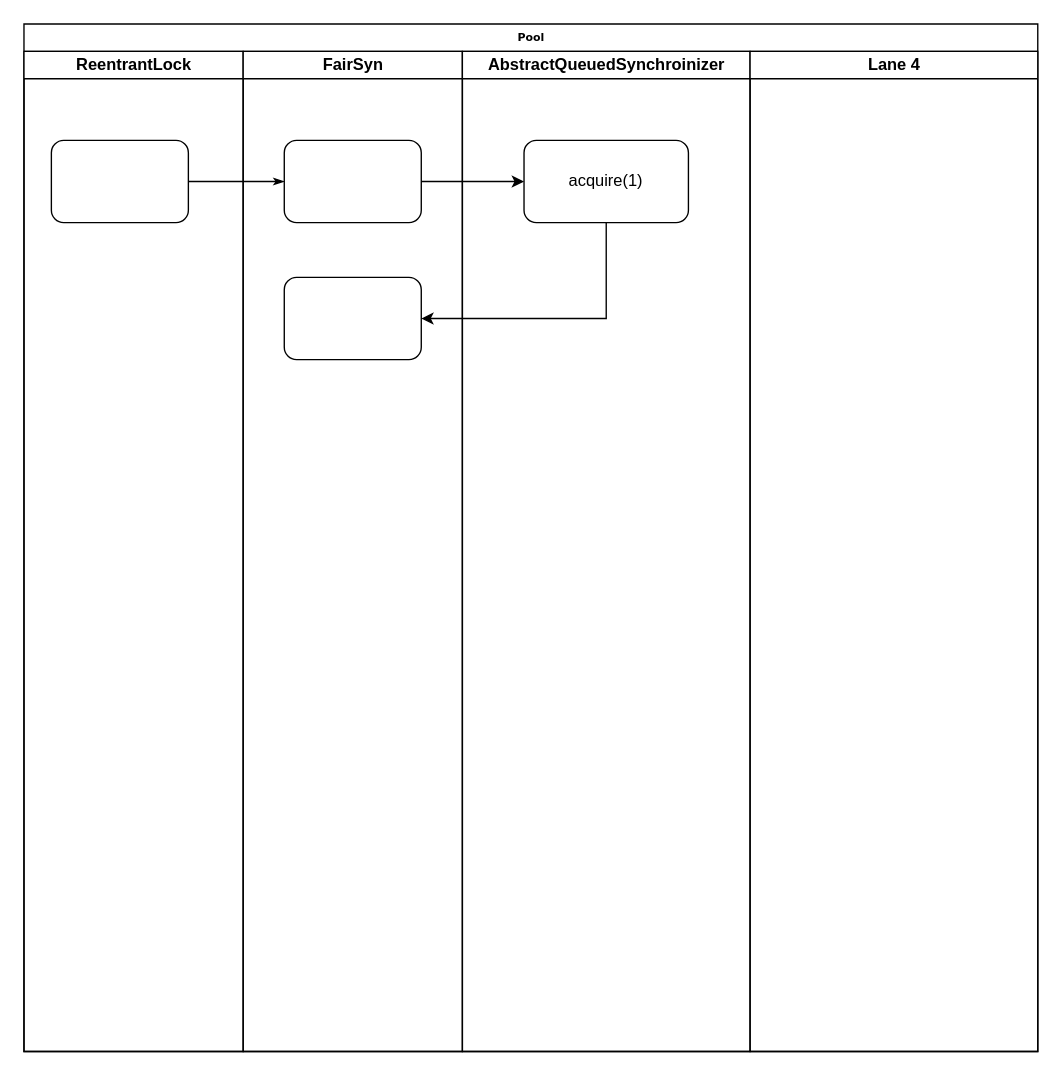
The diagram is 1062 pixels wide and 1075 high, and some of its shapes have lost their labels. The shapes that lost their labels are listed below. From the top down, each one's centre as x and y in pixels, then its label:
At [119,181]: "lock()".
At [352,181]: "lock".
At [352,318]: "tryAcquire(1)".
